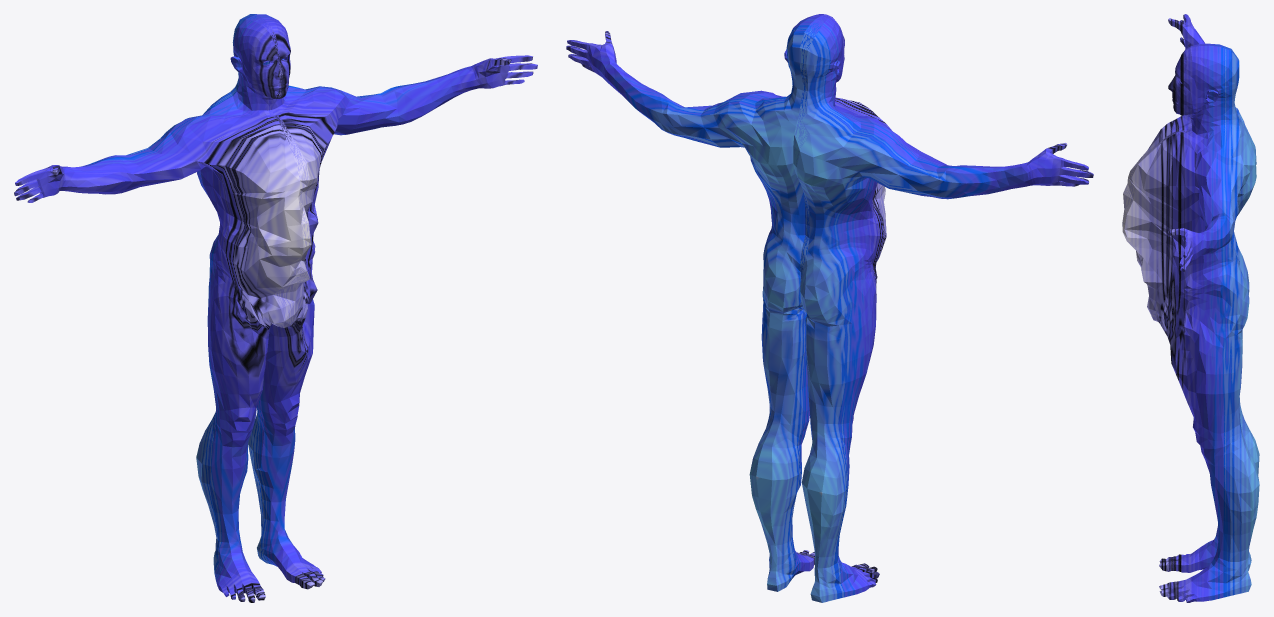
The model's file is v cunt.OBJ.
The picture shows the model from 3 angles, left to right: view 1: azimuth 30°, elevation 25°; view 2: azimuth 150°, elevation 25°; view 3: azimuth 270°, elevation 25°; orthographic projection. The views are drawn at different scales.
Visible parts, largest first — view 1: Group31716; view 2: Group31716; view 3: Group31716.
Boxes of the visible parts, x1,y1,x2,y2 form: Group31716: (14,14,537,602); Group31716: (566,14,1093,602); Group31716: (1122,14,1259,602).
Size of the model in its own units: 1.96 by 2 by 0.4643.
Materials: 1 (1 with a texture image).
